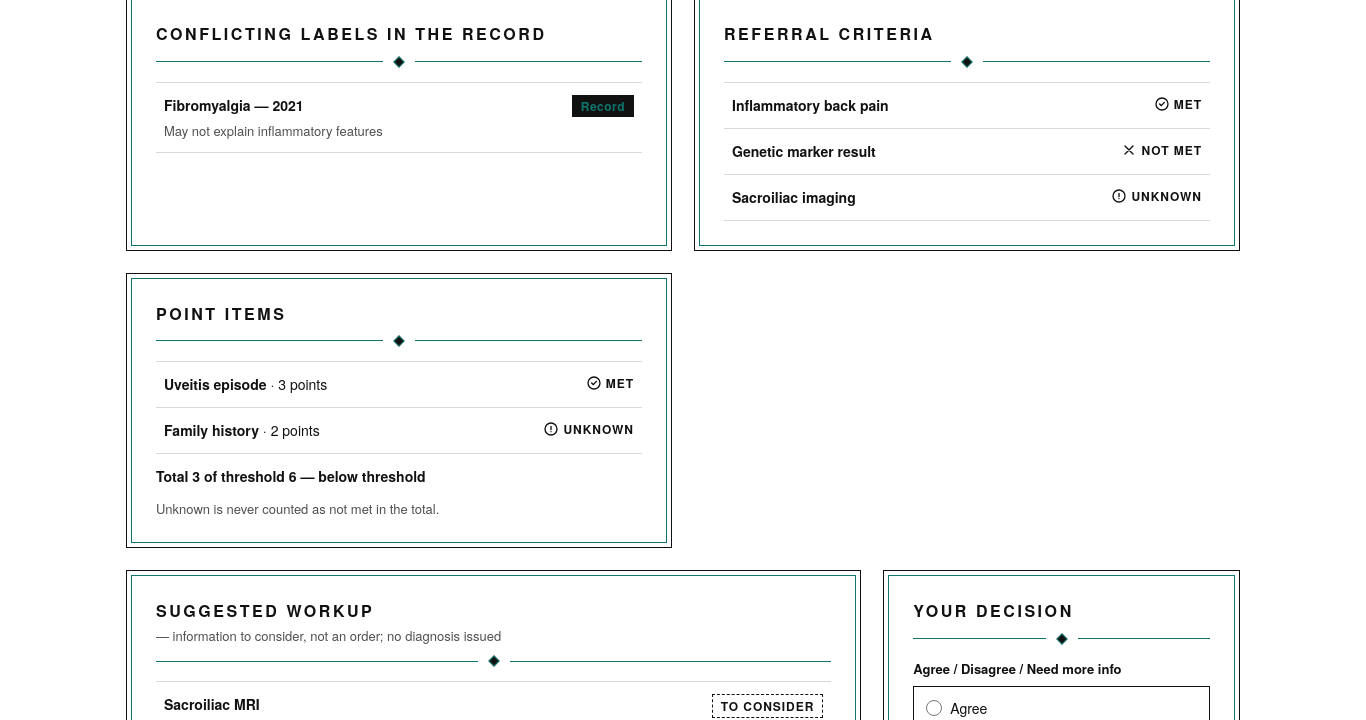
CaseSummary criteria panel › [AC-031] opening a met item reveals the named evidence with its date and source tag
(page scrolled)
Expected: the text "Uveitis visit" is not shown
Click the button "Uveitis episode · 3 points Met": (215, 384) [156, 362, 642, 407]
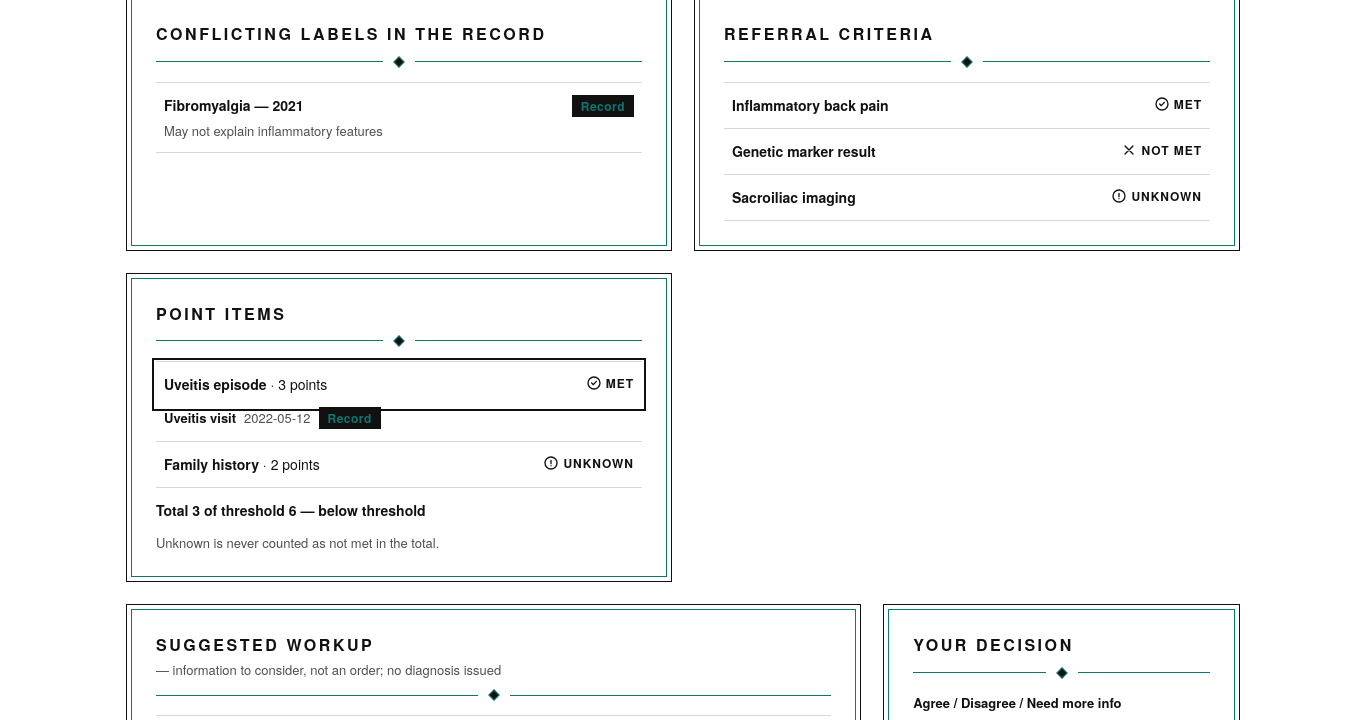
Now the text "Uveitis visit" is shown, box [164, 408, 236, 428]
Now the text "2022-05-12" is shown, box [244, 408, 311, 428]
Now the text "Record" below "Point items" is shown, box [328, 409, 372, 427]
